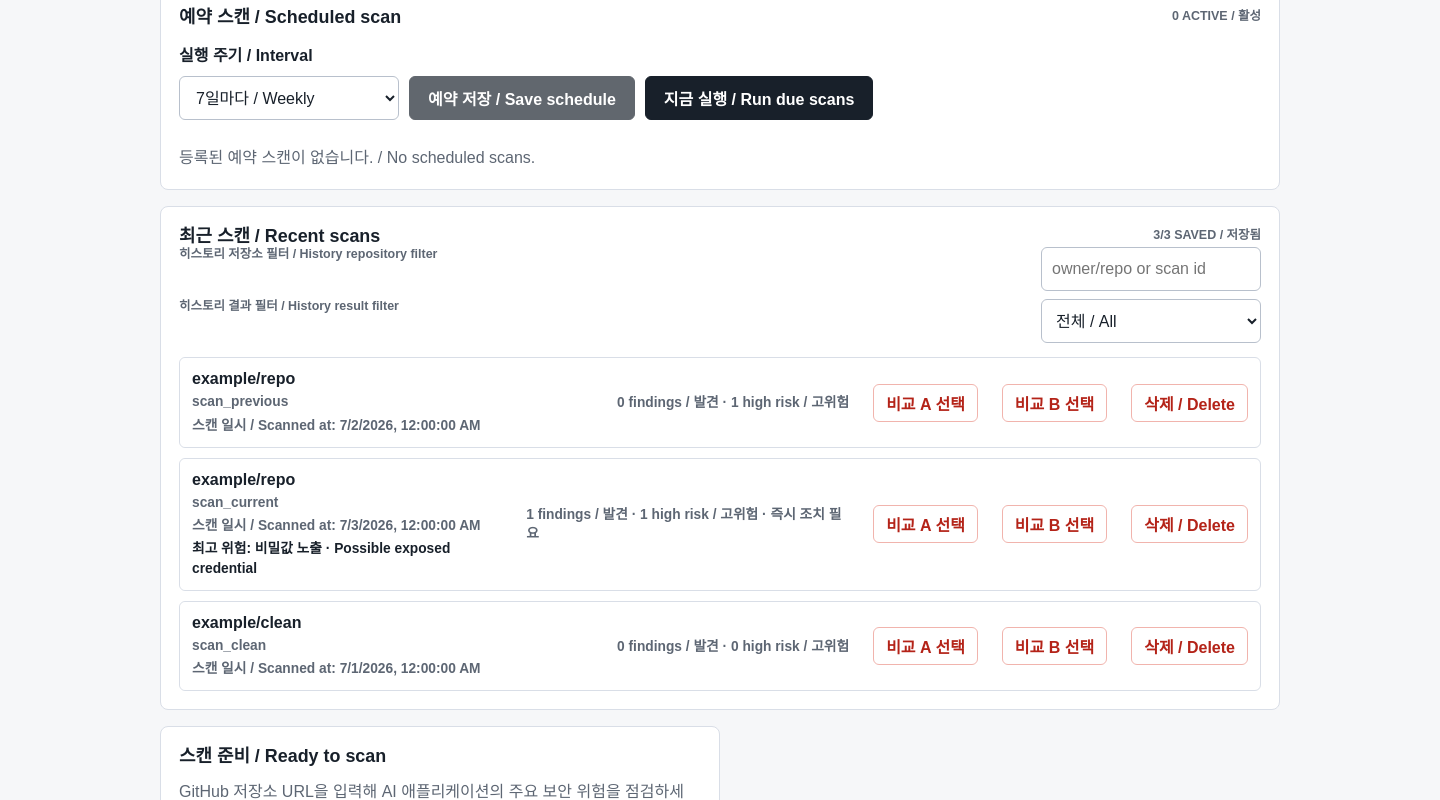
Test: Home › rejects comparing the same saved scan twice
The width and height of the screenshot is (1440, 800).
(page scrolled)
Click the button with aria-label "비교 A 선택 scan_previous": [925, 403] box [873,384,978,422]
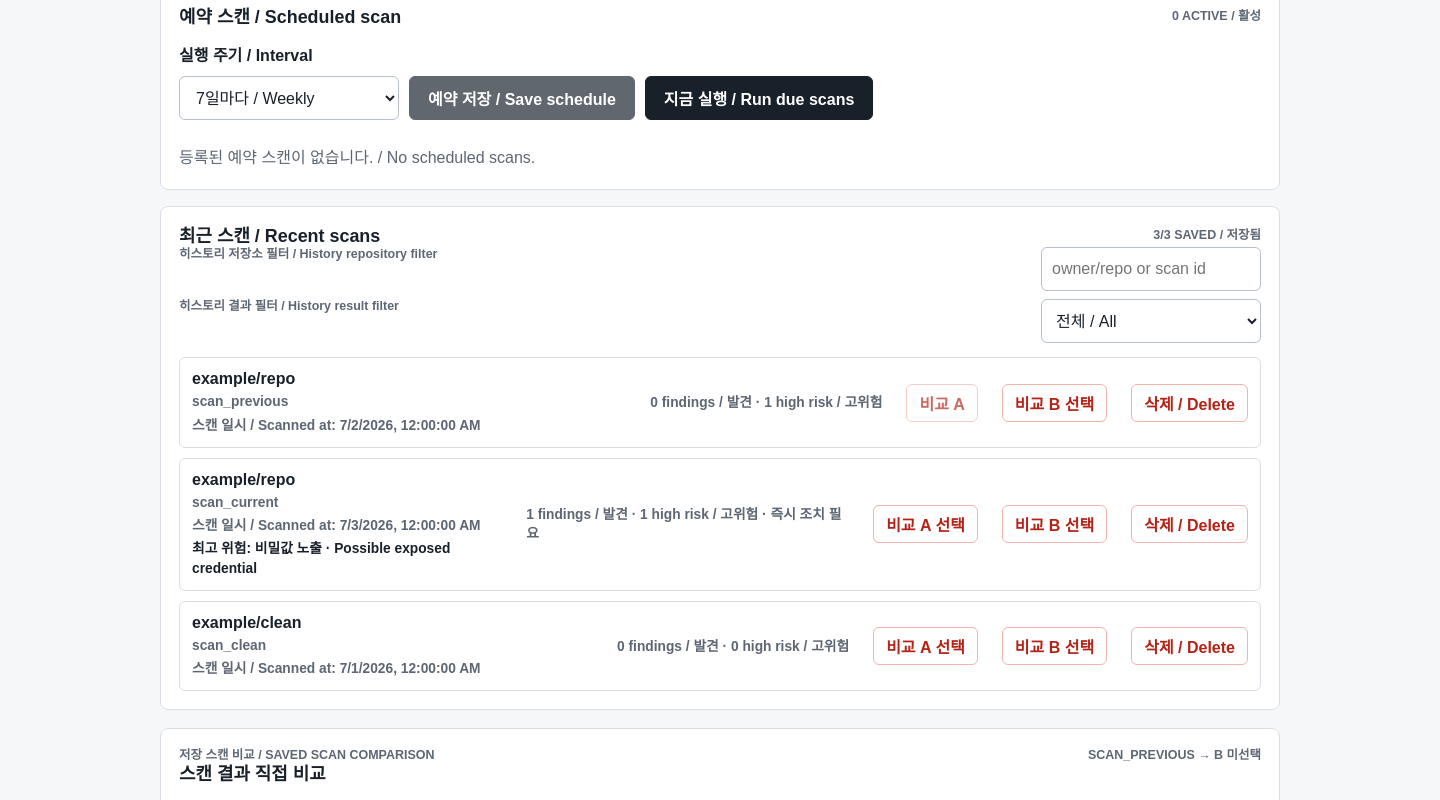
Click the button with aria-label "비교 B 선택 scan_previous": [1055, 403] box [1002,384,1107,422]
(page scrolled)
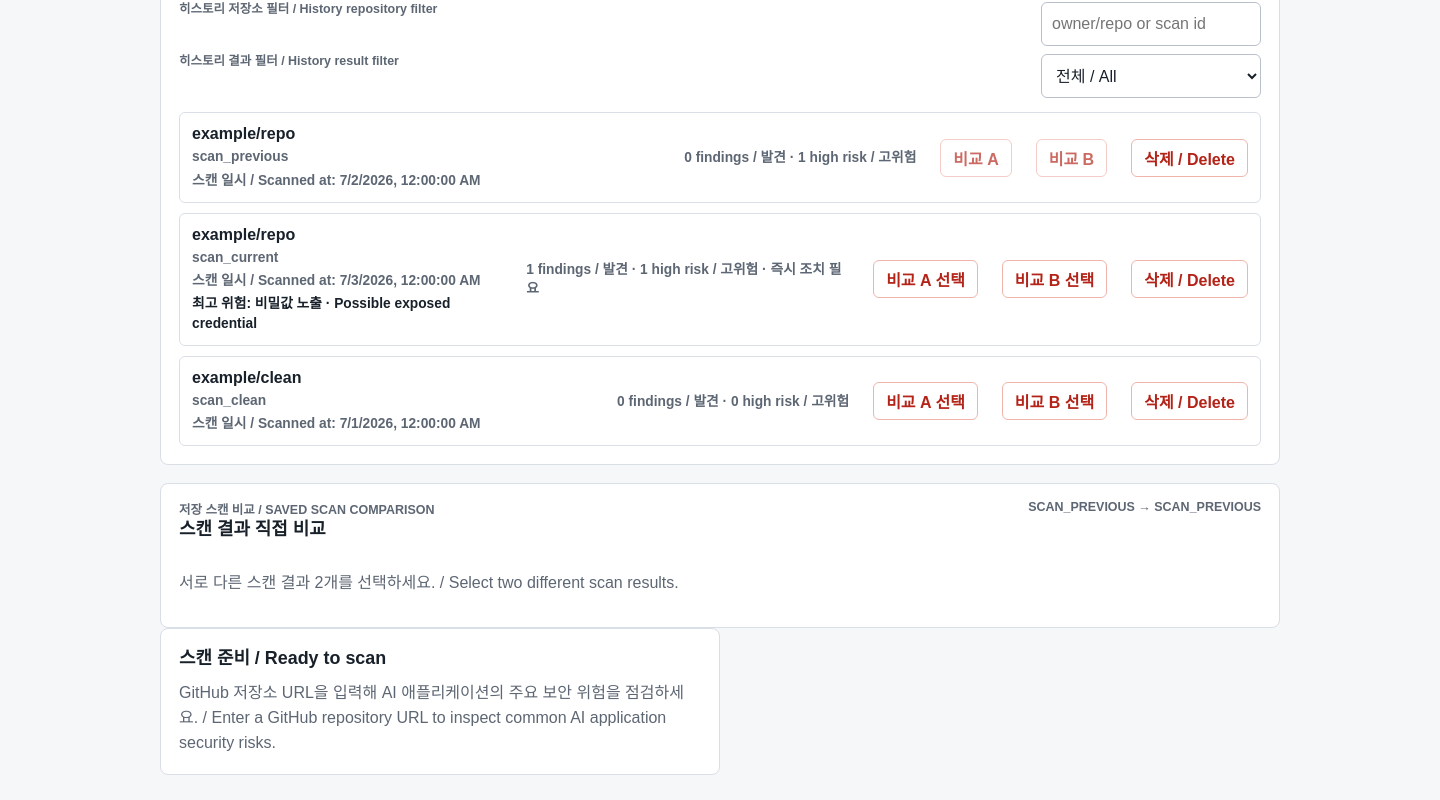
Result: the text "서로 다른 스캔 결과 2개를 선택하세요. / Select two different scan results." is shown at [179,574,679,591]
